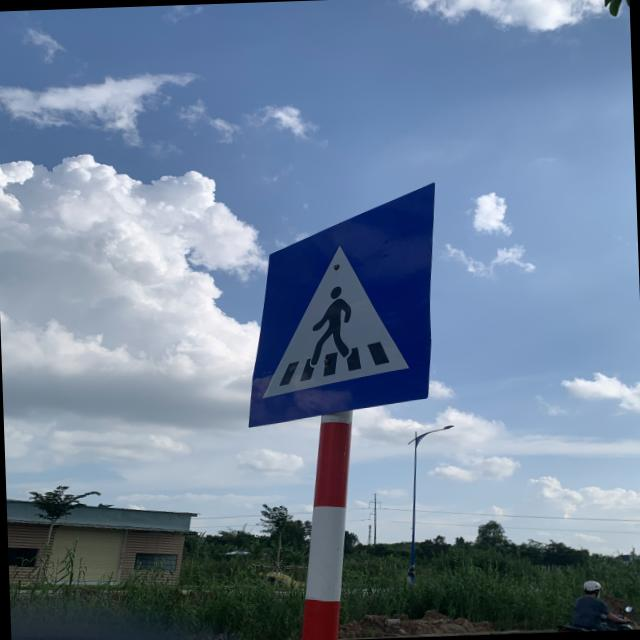Giao_Nhau_Duong_Uu_Tien: (242, 182, 444, 428)
